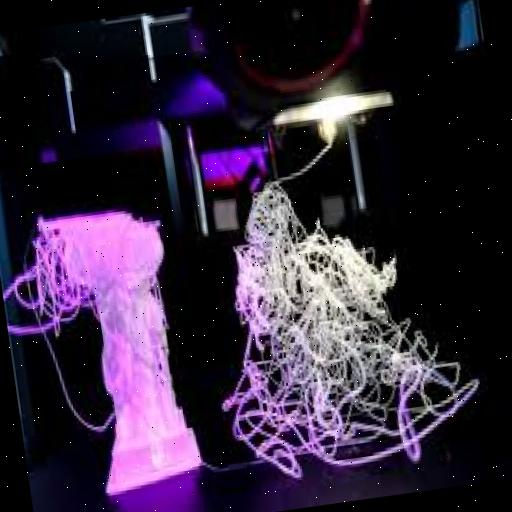spaghetti: (184, 118, 504, 494), (0, 202, 104, 356), (140, 255, 176, 346)
